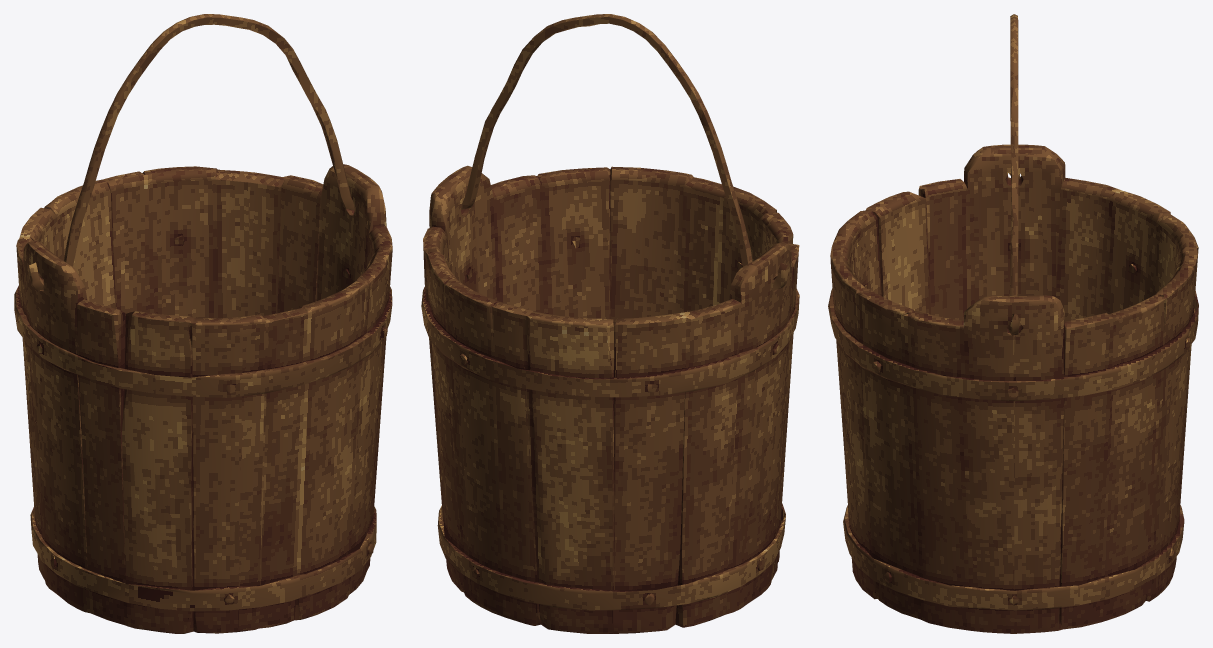
Rendered from wooden_bucket_01.glb.
The picture shows the model from 3 angles, left to right: view 1: azimuth 30°, elevation 25°; view 2: azimuth 150°, elevation 25°; view 3: azimuth 270°, elevation 25°; orthographic projection.
Parts seen in each view (by area): view 1: body; view 2: body; view 3: body.
Part boxes in pixels (x1,y1,x2,y2): body: [14, 14, 392, 633]; body: [421, 14, 799, 633]; body: [828, 14, 1198, 633].
Bounding box in the file's own units: 0.3666 × 0.5499 × 0.3422.
Materials: 1 (1 with a texture image).
